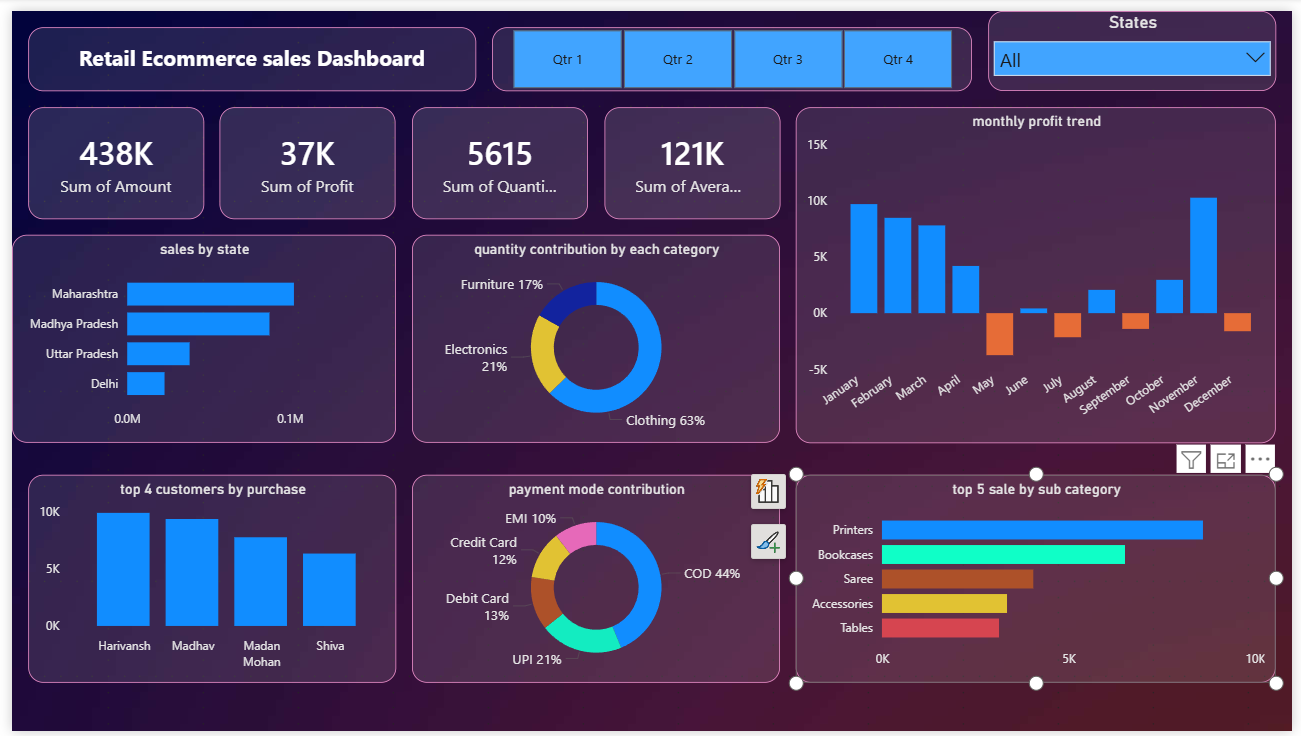

This screenshot's page, from the dashboard's own definition file:
{"tool":"powerbi","page":{"name":"Page 1","canvas":[1280,720],"ordinal":0},"visuals":[{"type":"textbox","box":[16,16,448,64],"z":0},{"type":"columnChart","title":" Profit by Month","fields":{"Category":["Orders.Order Date.Variation.Date Hierarchy.Month"],"Y":["Sum(Details.Profit)"]},"box":[784,96,480,336],"z":1000},{"type":"barChart","fields":{"Category":["Details.Sub-Category"],"Y":["Sum(Details.Profit)"]},"box":[784,464,480,208],"z":2000},{"type":"donutChart","fields":{"Category":["Details.Category"],"Y":["Sum(Details.Quantity)"]},"box":[400,224,368,208],"z":3000},{"type":"donutChart","fields":{"Y":["Sum(Details.Quantity)"],"Category":["Details.PaymentMode"]},"box":[400,464,368,208],"z":4000},{"type":"cardVisual","fields":{"Data":["Sum(Details.Amount)"]},"box":[16,96,176,112],"z":5000},{"type":"cardVisual","fields":{"Data":["Sum(Details.Profit)"]},"box":[208,96,176,112],"z":6000},{"type":"cardVisual","fields":{"Data":["Sum(Details.Average Order Value)"]},"box":[592,96,176,112],"z":7000},{"type":"cardVisual","fields":{"Data":["Sum(Details.Quantity)"]},"box":[400,96,176,112],"z":8000},{"type":"barChart","fields":{"Category":["Orders.State"],"Y":["Sum(Details.Amount)"]},"box":[0,224,384,208],"z":9000},{"type":"columnChart","fields":{"Category":["Orders.CustomerName"],"Y":["Sum(Details.Amount)"]},"box":[16,464,368,208],"z":10000},{"type":"slicer","fields":{"Values":["Orders.Order Date.Variation.Date Hierarchy.Quarter"]},"box":[480,16,480,64],"z":11000},{"type":"slicer","title":"States","fields":{"Values":["Orders.State"]},"box":[976,0,288,80],"z":12000}]}

Visuals, with their boxes in screenshot pixels (x1, y1, x2, y2), scaled from the page's 1280x720 canvas onto the 1301x736 screenshot:
textbox: 16/16/472/82
" Profit by Month" columnChart: 797/98/1285/442
barChart - Details.Sub-Category x Sum(Details.Profit): 797/474/1285/687
donutChart - Details.Category x Sum(Details.Quantity): 407/229/781/442
donutChart - Sum(Details.Quantity) x Details.PaymentMode: 407/474/781/687
cardVisual - Sum(Details.Amount): 16/98/195/213
cardVisual - Sum(Details.Profit): 211/98/390/213
cardVisual - Sum(Details.Average Order Value): 602/98/781/213
cardVisual - Sum(Details.Quantity): 407/98/585/213
barChart - Orders.State x Sum(Details.Amount): 0/229/390/442
columnChart - Orders.CustomerName x Sum(Details.Amount): 16/474/390/687
slicer - Orders.Order Date.Variation.Date Hierarchy.Quarter: 488/16/976/82
"States" slicer: 992/0/1285/82
